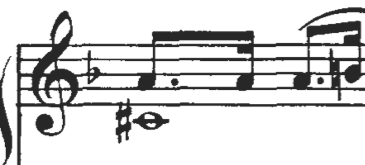flat: (81, 47, 105, 89)
treble_clef: (30, 6, 84, 142)
